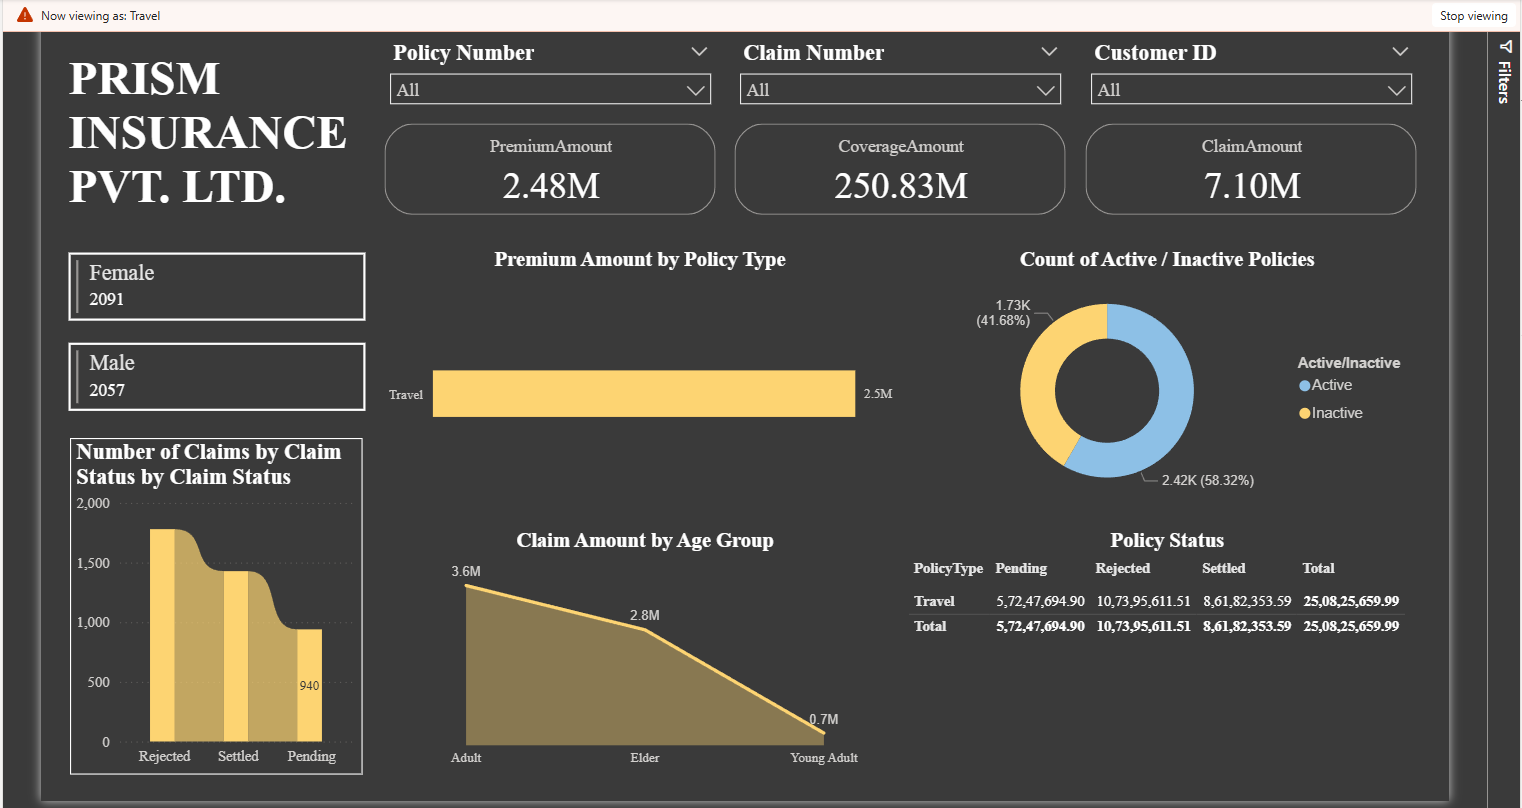

What the dashboard file says about the page in this screenshot:
{"tool":"powerbi","page":{"name":"Overview","canvas":[1280,720],"ordinal":0},"visuals":[{"type":"slicer","fields":{"Values":["InsuranceData.PolicyNumber"]},"box":[307.3,23.6,311.8,75.5],"z":0},{"type":"slicer","fields":{"Values":["InsuranceData.ClaimNumber"]},"box":[625.5,23.6,311.8,75.5],"z":1000},{"type":"slicer","fields":{"Values":["InsuranceData.CustomerID"]},"box":[944.5,23.6,311.8,75.5],"z":2000},{"type":"textbox","box":[20,33.6,280,159.1],"z":3000},{"type":"cardVisual","fields":{"Data":["Sum(InsuranceData.PremiumAmount)"]},"box":[307.3,99.1,311.8,93.6],"z":4000},{"type":"cardVisual","fields":{"Data":["Sum(InsuranceData.CoverageAmount)"]},"box":[625.5,99.1,311.8,93.6],"z":5000},{"type":"cardVisual","fields":{"Data":["Sum(InsuranceData.ClaimAmount)"]},"box":[944.5,99.1,311.8,93.6],"z":6000},{"type":"multiRowCard","fields":{"Values":["InsuranceData.Gender","CountNonNull(InsuranceData.Gender)"]},"box":[20,216.4,280,173.6],"z":7000},{"type":"ribbonChart","title":"Number of Claims by Claim Status by Claim Status","fields":{"Category":["InsuranceData.ClaimStatus"],"Y":["CountNonNull(InsuranceData.ClaimStatus)"]},"box":[26.6,390.1,266,305.9],"z":8000},{"type":"barChart","title":"Premium Amount by Policy Type","fields":{"Category":["InsuranceData.PolicyType"],"Y":["Sum(InsuranceData.PremiumAmount)"]},"box":[307.3,216.4,474.5,240],"z":9000},{"type":"lineChart","title":"Claim Amount by Age Group","fields":{"Category":["InsuranceData.Age Group"],"Y":["Sum(InsuranceData.ClaimAmount)"]},"box":[316.4,471.8,465.5,224.5],"z":10000},{"type":"donutChart","title":"Count of Active / Inactive Policies","fields":{"Category":["InsuranceData.Active/Inactive"],"Y":["CountNonNull(InsuranceData.Active/Inactive)"]},"box":[790.9,216.4,465.5,240.3],"z":11000},{"type":"pivotTable","title":"Policy Status","fields":{"Values":["Sum(InsuranceData.CoverageAmount)"],"Rows":["InsuranceData.PolicyType"],"Columns":["InsuranceData.ClaimStatus"]},"box":[783.8,471.7,480.6,225.2],"z":12000}]}

Visuals, with their boxes on the page's 1280x720 design canvas (x1, y1, x2, y2). These are canvas units, not pixel positions in the 1522x808 screenshot, which may show the page scaled, cropped or inside an application window:
slicer - InsuranceData.PolicyNumber: {"left": 307, "top": 24, "right": 619, "bottom": 99}
slicer - InsuranceData.ClaimNumber: {"left": 626, "top": 24, "right": 937, "bottom": 99}
slicer - InsuranceData.CustomerID: {"left": 944, "top": 24, "right": 1256, "bottom": 99}
textbox: {"left": 20, "top": 34, "right": 300, "bottom": 193}
cardVisual - Sum(InsuranceData.PremiumAmount): {"left": 307, "top": 99, "right": 619, "bottom": 193}
cardVisual - Sum(InsuranceData.CoverageAmount): {"left": 626, "top": 99, "right": 937, "bottom": 193}
cardVisual - Sum(InsuranceData.ClaimAmount): {"left": 944, "top": 99, "right": 1256, "bottom": 193}
multiRowCard - InsuranceData.Gender x CountNonNull(InsuranceData.Gender): {"left": 20, "top": 216, "right": 300, "bottom": 390}
"Number of Claims by Claim Status by Claim Status" ribbonChart: {"left": 27, "top": 390, "right": 293, "bottom": 696}
"Premium Amount by Policy Type" barChart: {"left": 307, "top": 216, "right": 782, "bottom": 456}
"Claim Amount by Age Group" lineChart: {"left": 316, "top": 472, "right": 782, "bottom": 696}
"Count of Active / Inactive Policies" donutChart: {"left": 791, "top": 216, "right": 1256, "bottom": 457}
"Policy Status" pivotTable: {"left": 784, "top": 472, "right": 1264, "bottom": 697}
